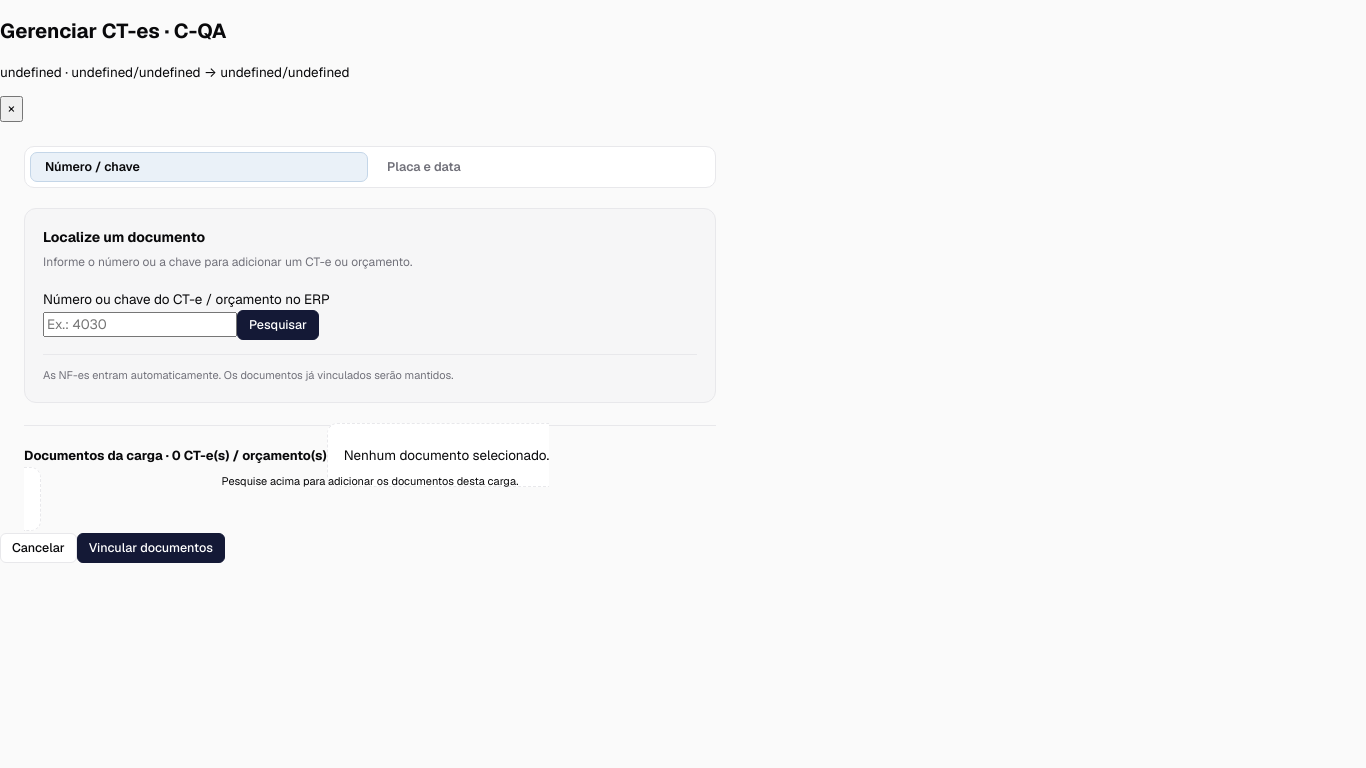
Test: valida busca vazia, informa ausência e permite tentar novamente após erro
This screenshot has width=1366, height=768.
Click the button "Pesquisar" at (278, 325), box [237, 310, 319, 340]
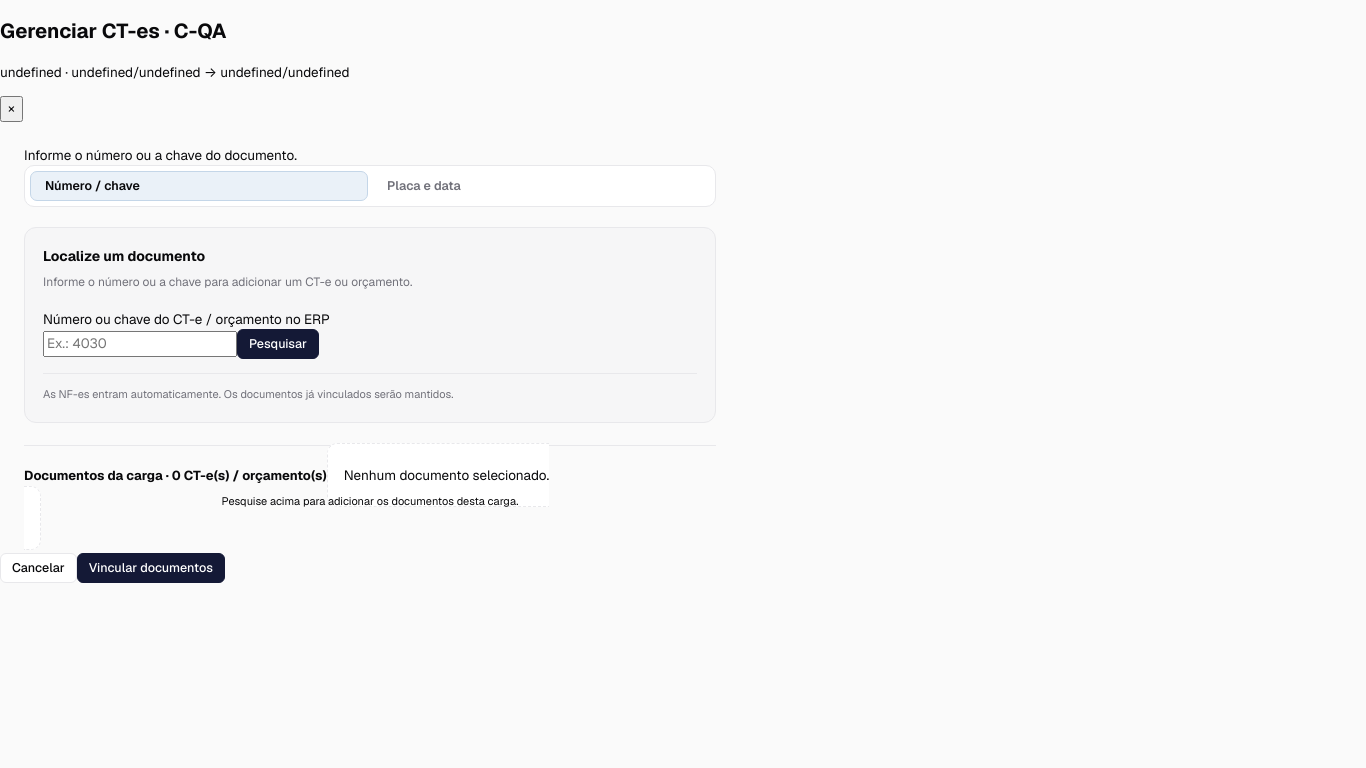
Expected: the text "Informe o número ou a chave do documento." is shown, [24, 146, 297, 164]
Type "1283" into the field with placeholder "Ex.: 4030" at (140, 344), box [43, 331, 237, 357]
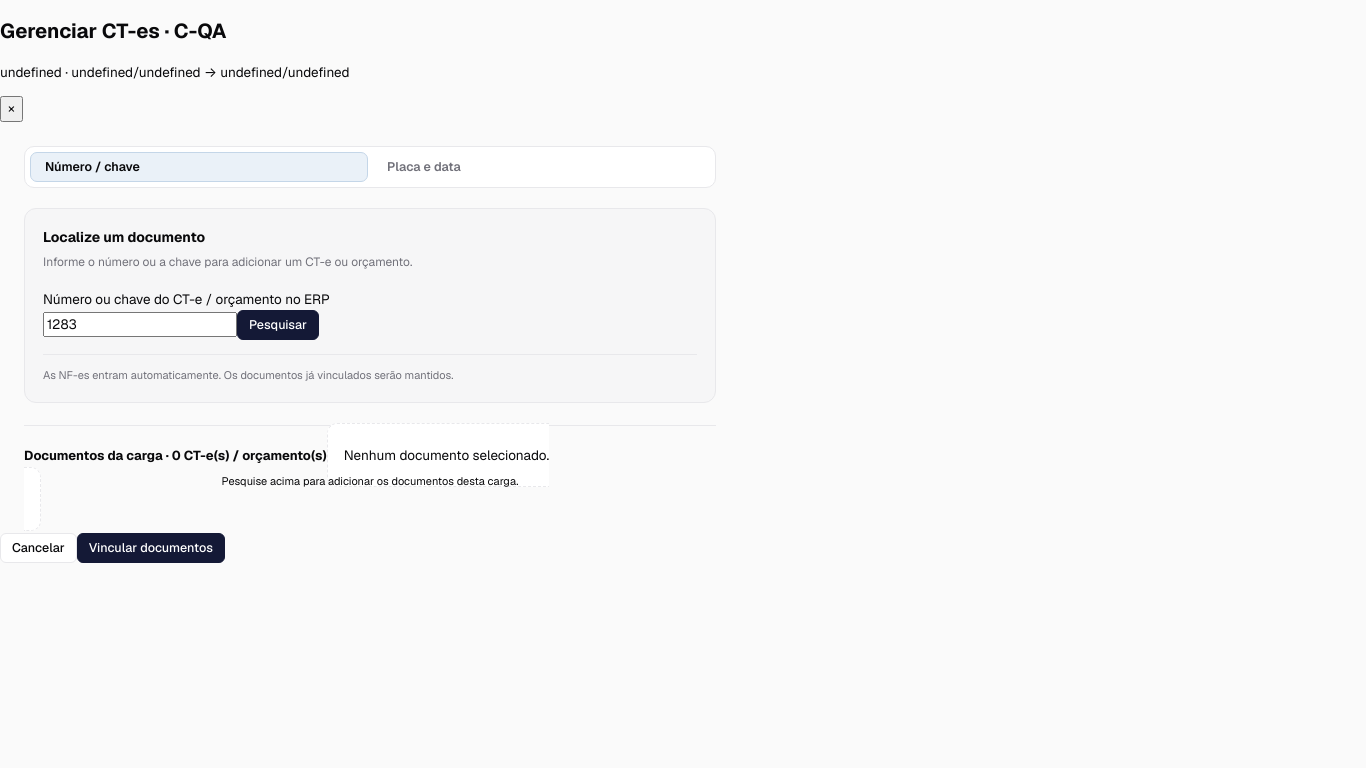
Click the button "Pesquisar" at (278, 325), box [237, 310, 319, 340]
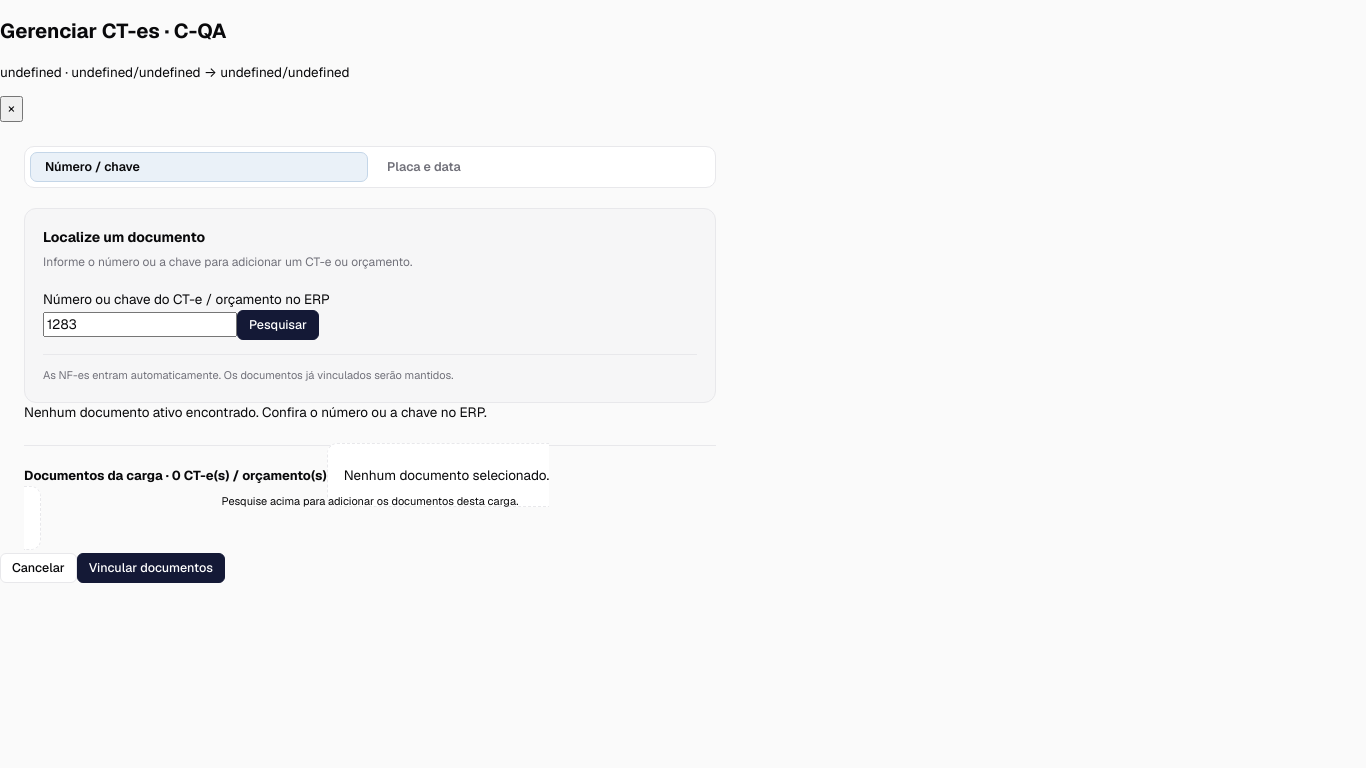
Expected: the text "Nenhum documento ativo encontrado. Confira o número ou a chave no ERP." is shown, [24, 404, 487, 422]
Click the button "Pesquisar" at (278, 325), box [237, 310, 319, 340]
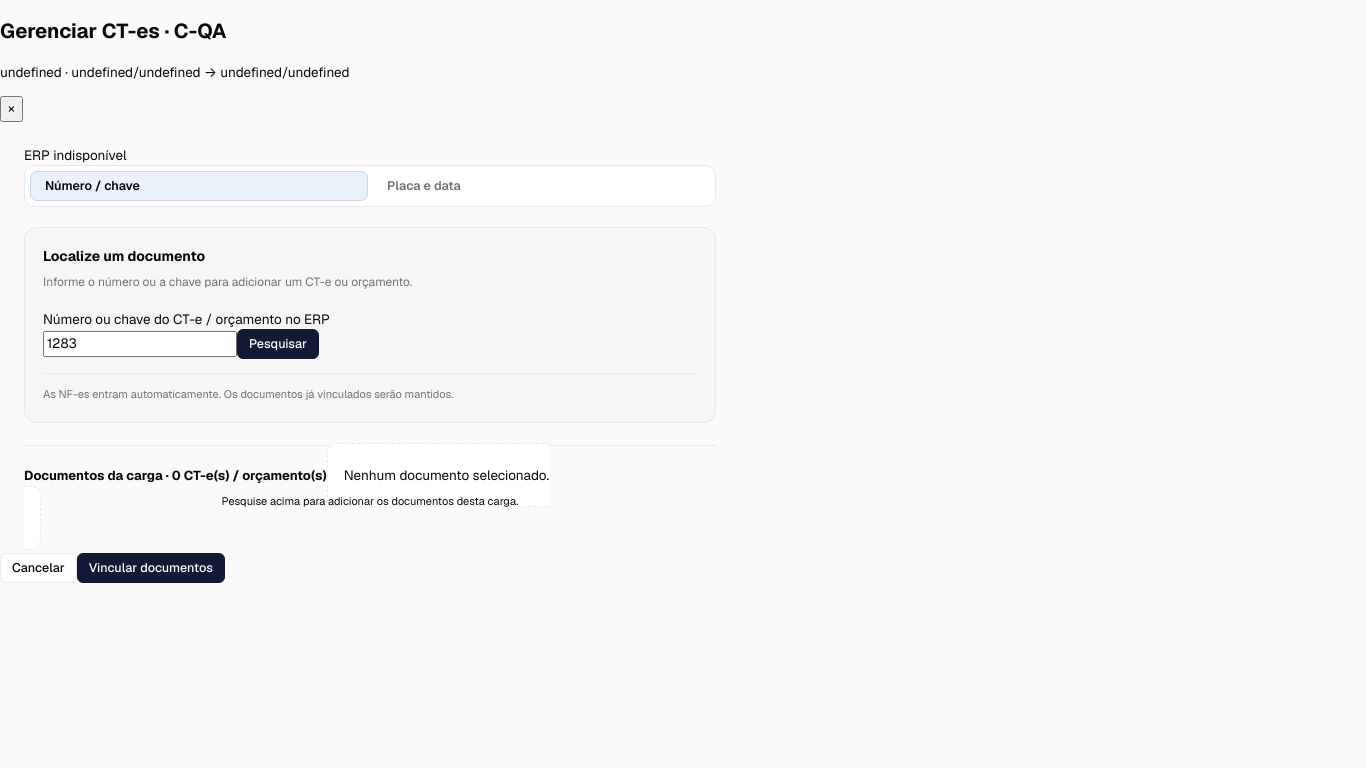
Expected: the text "ERP indisponível" is shown, [24, 146, 126, 164]
Click the button "Pesquisar" at (278, 344), box [237, 330, 319, 360]
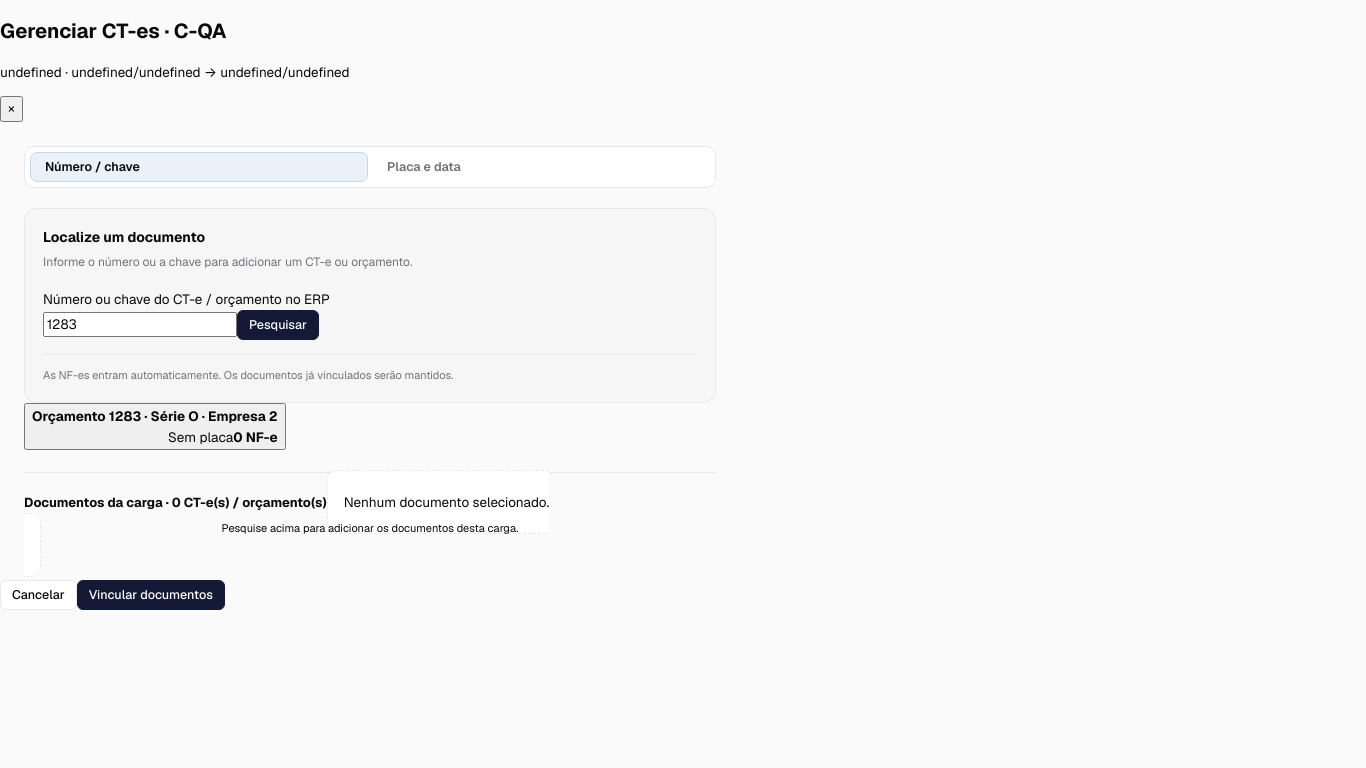
Expected: the button "Orçamento 1283 · Série O · Empresa 2 Sem placa0 NF-e" is shown, [24, 404, 286, 450]
